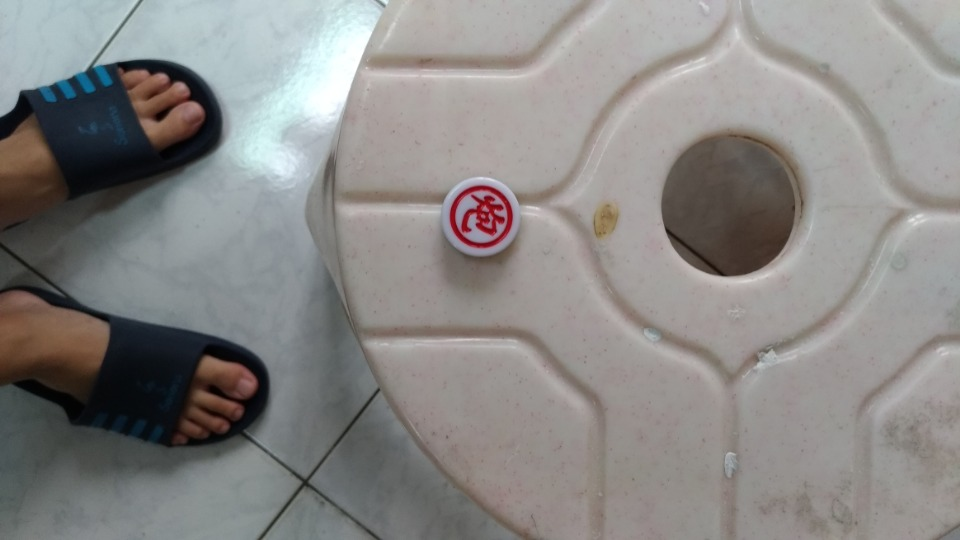r-cannon: (433, 169, 547, 282)
